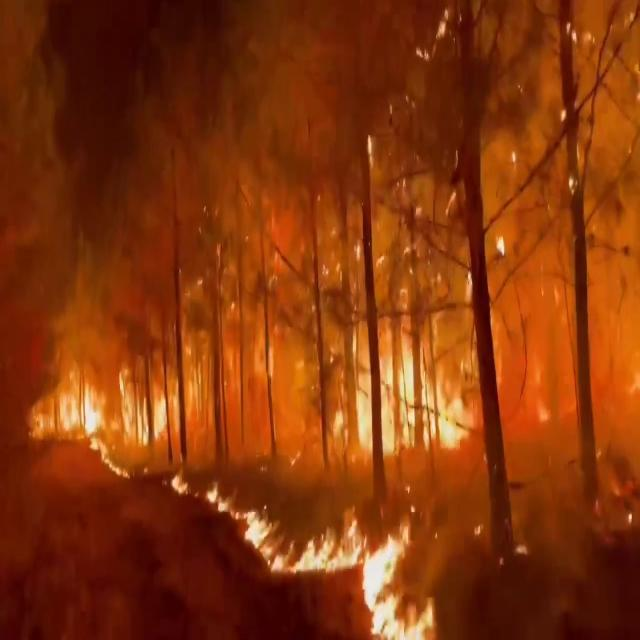Fire: (336, 315, 476, 461), (352, 497, 438, 637), (37, 353, 109, 453), (236, 504, 328, 579), (118, 356, 172, 454), (168, 470, 231, 518)
Smoke: (16, 1, 428, 387), (244, 0, 638, 377)
